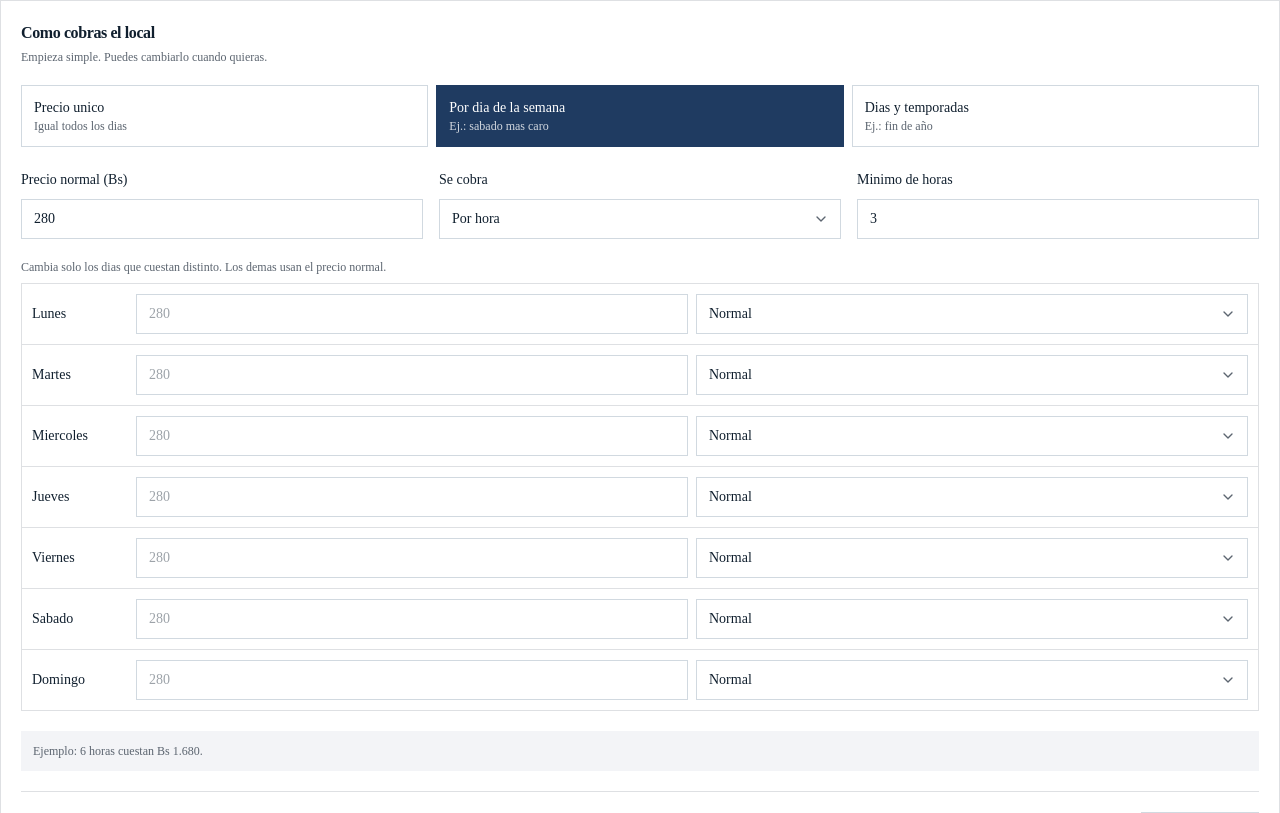
Test: VenuePricingSection › minimo de horas › se pide si un dia se cobra por hora aunque lo normal sea por dia, y dice por que
Select "Por dia" in the dropdown labelled "Se cobra" at (640, 219), box [439,199,841,239]
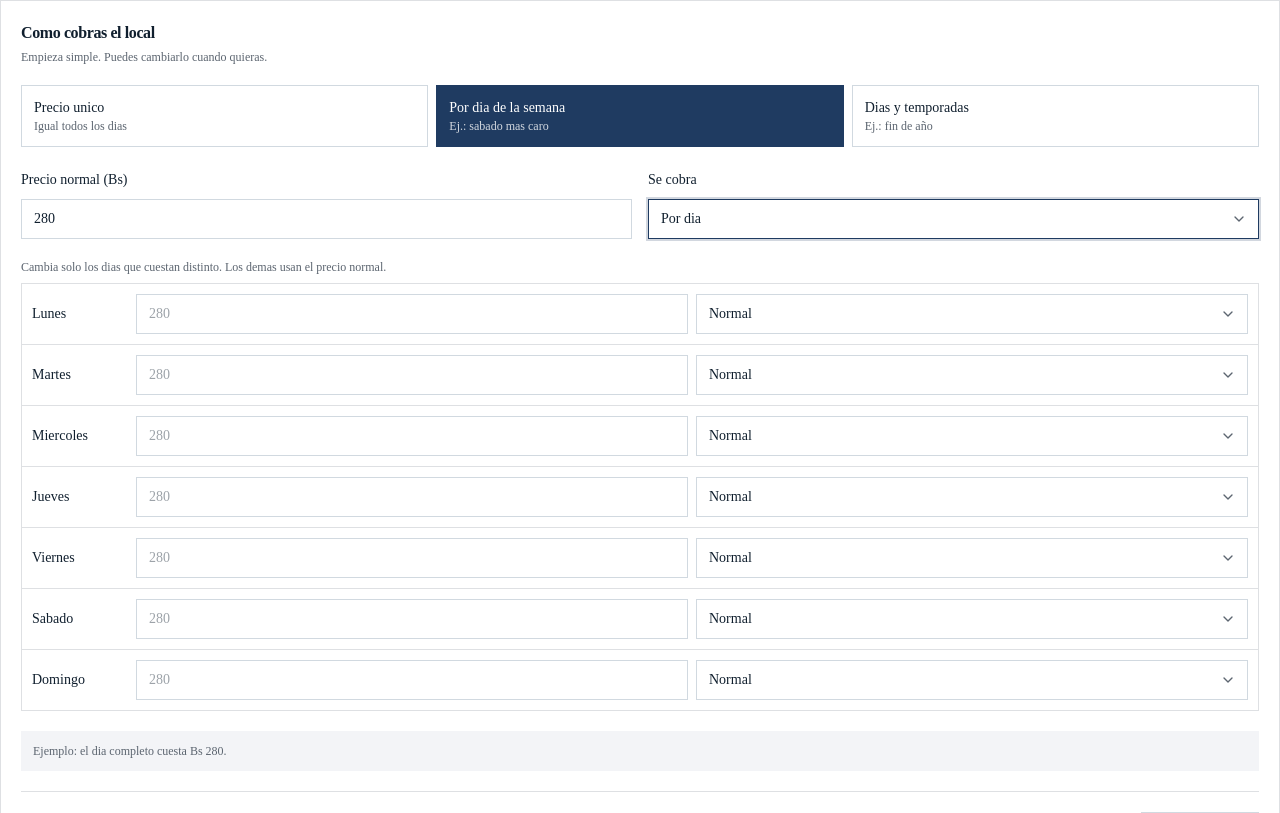
Expected: the label labelled "Minimo de horas" is gone
Type "350" into the number field named "Precio del Sabado" at (412, 619), box [136,599,688,639]
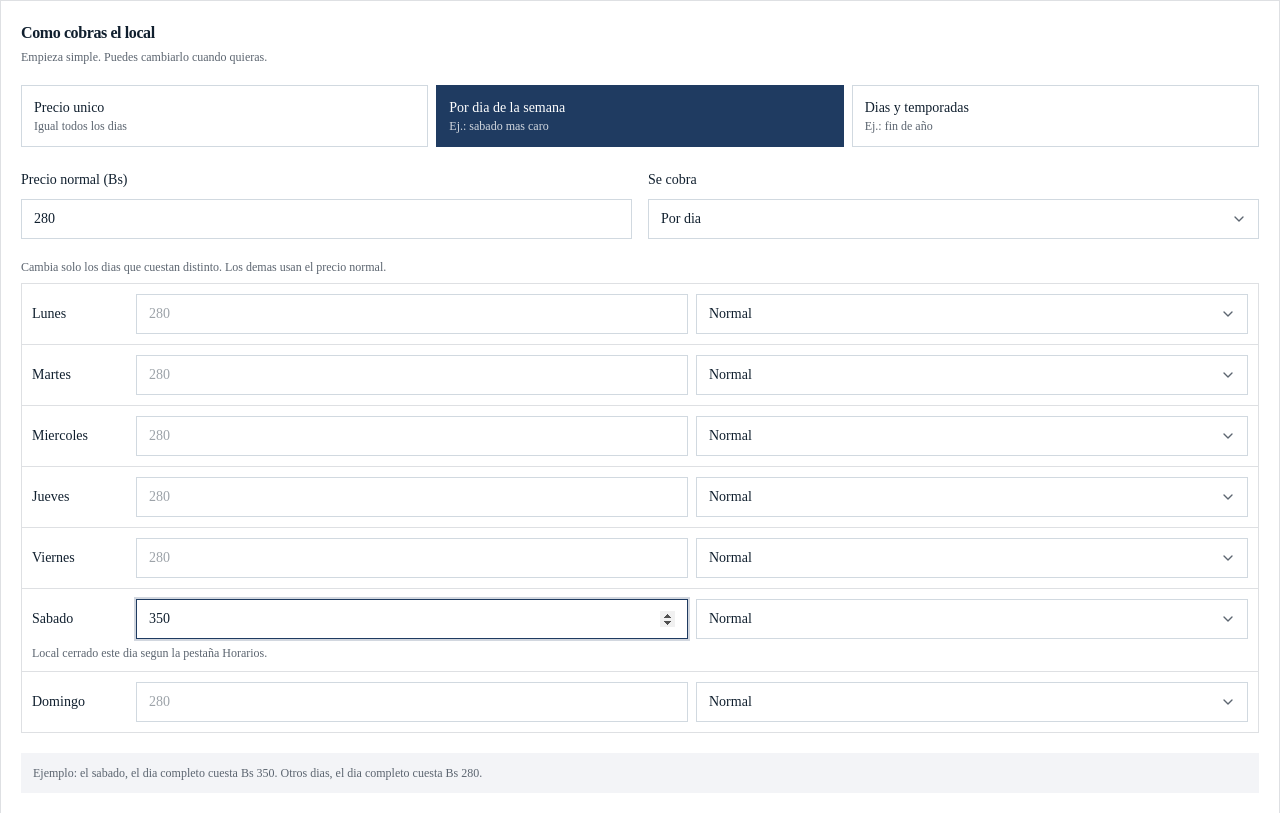
Expected: the label labelled "Minimo de horas" is not shown
Select "Por hora" in the dropdown named "Como se cobra el Sabado" at (972, 619), box [696,599,1248,639]
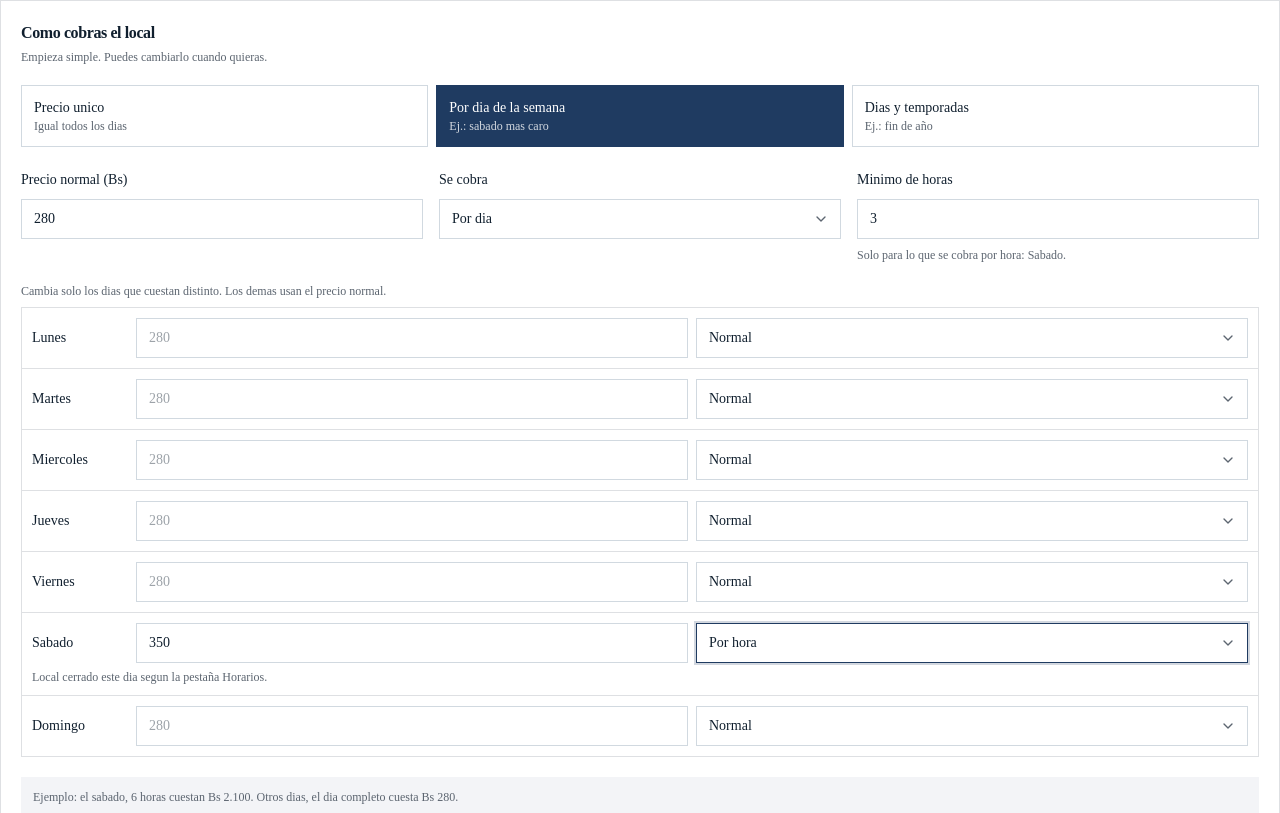
Expected: the number field labelled "Minimo de horas" is shown, [857,199,1259,239]
Expected: the text "Solo para lo que se cobra por hora: Sabado." is shown, [857,248,1066,262]
